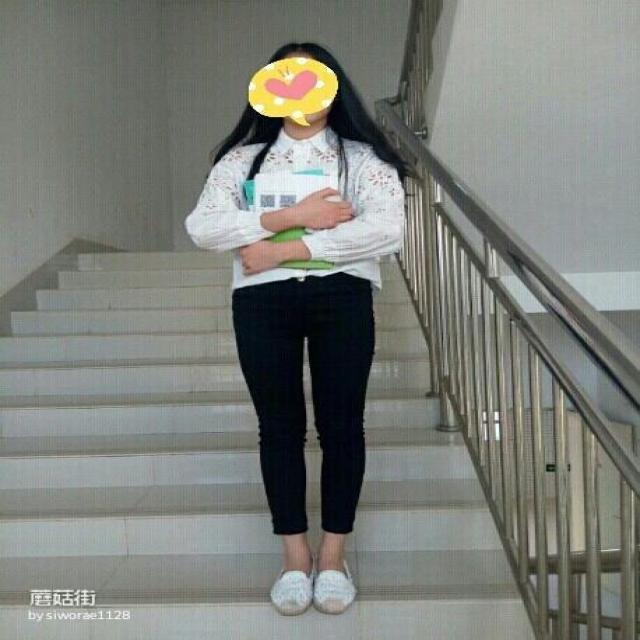long sleeve top: (186, 130, 405, 289)
trousers: (236, 268, 372, 535)
